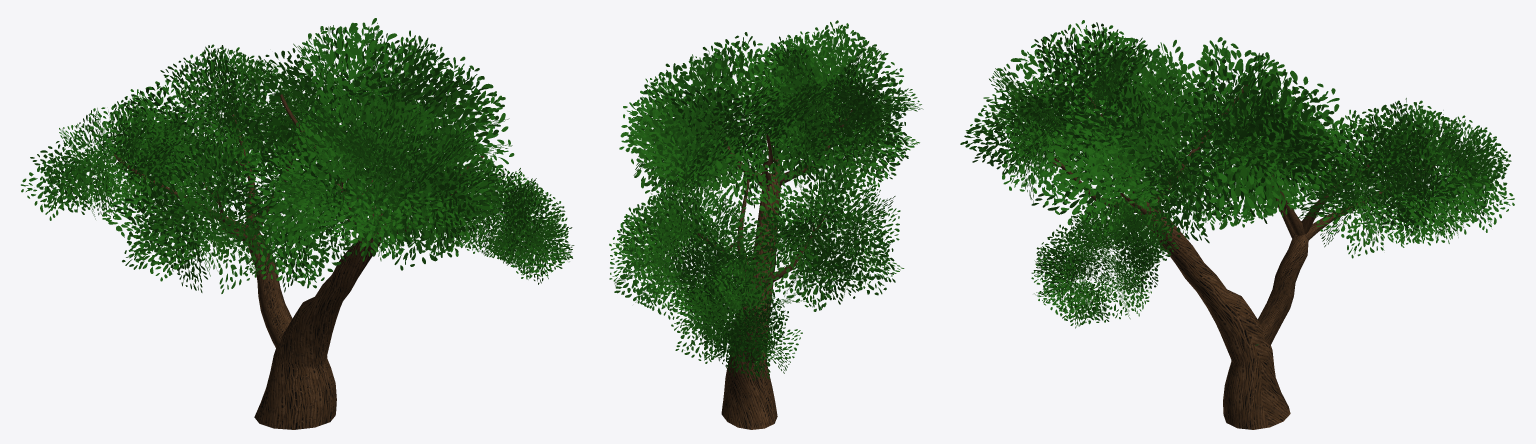
File: Cay 3-LOD 2.fbx
3 views of the same model, side by side, from view 1: azimuth 30°, elevation 25°; view 2: azimuth 150°, elevation 25°; view 3: azimuth 270°, elevation 25° (orthographic). The views are drawn at different scales.
Parts seen in each view (by area): view 1: LOD 2.001; view 2: LOD 2.001; view 3: LOD 2.001.
Boxes of the visible parts, bbox=[...] form: LOD 2.001: bbox=[21, 18, 574, 429]; LOD 2.001: bbox=[609, 20, 923, 429]; LOD 2.001: bbox=[960, 20, 1514, 429].
Size of the model in its own units: 945 by 1031 by 1309.
